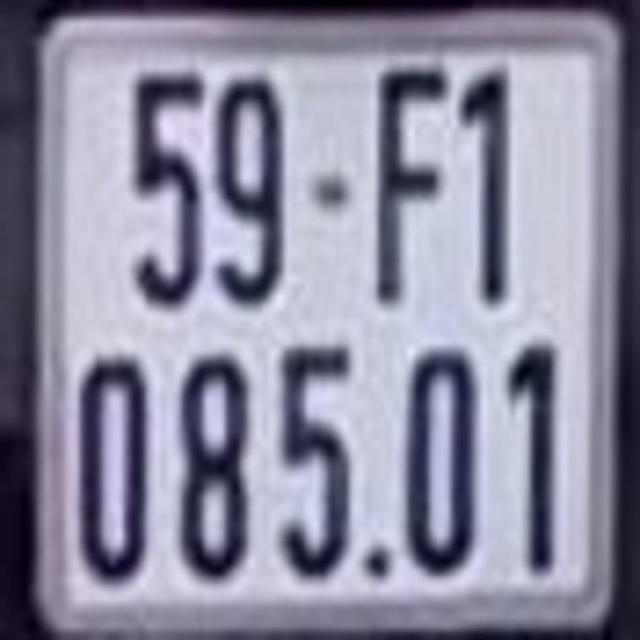0: (409, 349, 475, 570), (81, 358, 146, 580)
1: (504, 342, 556, 574), (464, 64, 512, 302)
5: (130, 72, 209, 311), (283, 344, 351, 579)
8: (180, 354, 246, 569)
9: (219, 74, 286, 298)
F: (376, 65, 453, 305)
